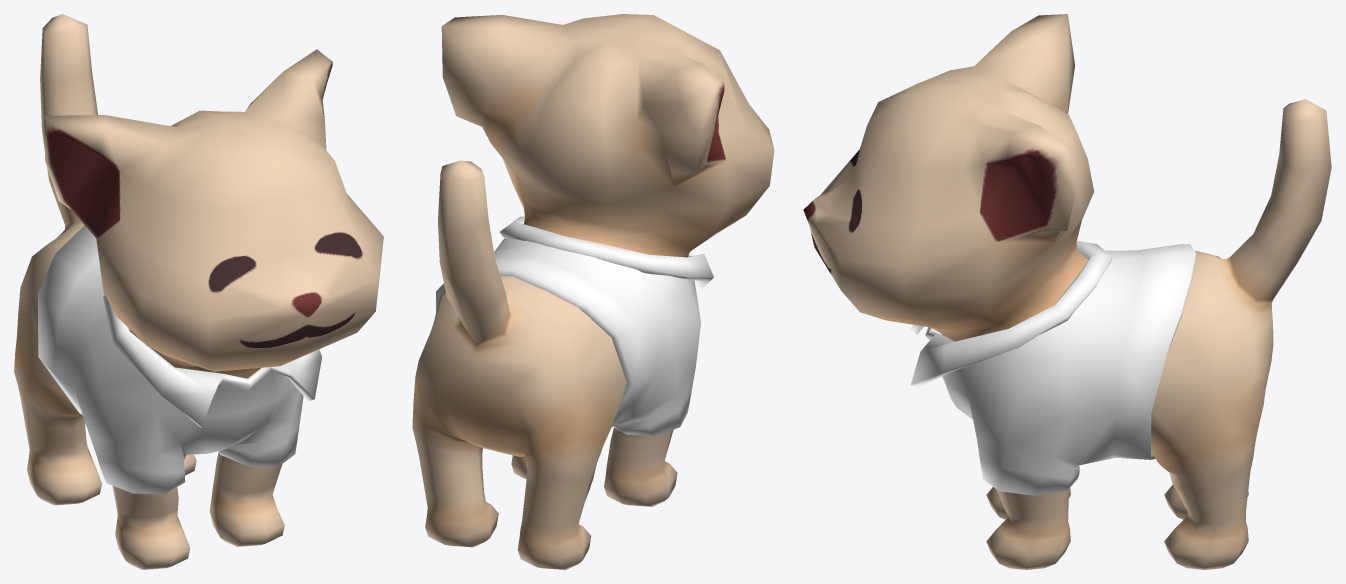
Rendered from Staff Cat01.fbx.
3 renders of one model, left to right at view 1: azimuth 30°, elevation 25°; view 2: azimuth 150°, elevation 25°; view 3: azimuth 270°, elevation 25°, orthographic. The views are drawn at different scales.
Visible parts, largest first — view 1: Cat_Base, Staff_Cat_shirt; view 2: Cat_Base, Staff_Cat_shirt; view 3: Cat_Base, Staff_Cat_shirt.
Boxes of the visible parts, bbox=[...] form: Cat_Base: bbox=[14, 14, 383, 569]; Staff_Cat_shirt: bbox=[38, 225, 321, 493]; Cat_Base: bbox=[412, 14, 774, 569]; Staff_Cat_shirt: bbox=[436, 216, 713, 436]; Cat_Base: bbox=[803, 14, 1331, 569]; Staff_Cat_shirt: bbox=[910, 240, 1196, 495].
Bounding box in the file's own units: 1.75 × 2.83 × 2.68.
Materials: 2 (1 with a texture image).
